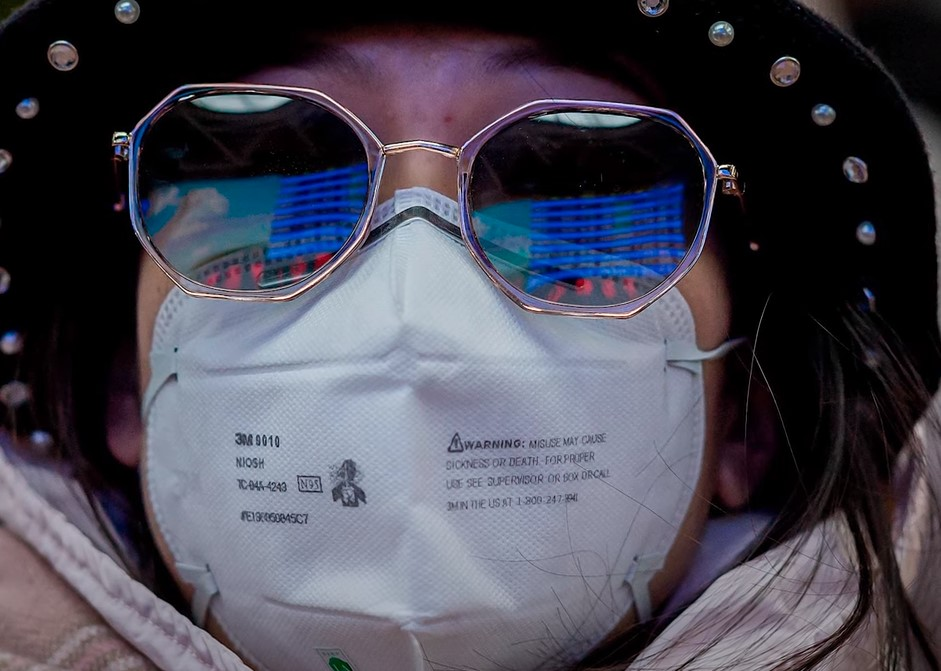face_with_mask: (13, 7, 922, 661)
